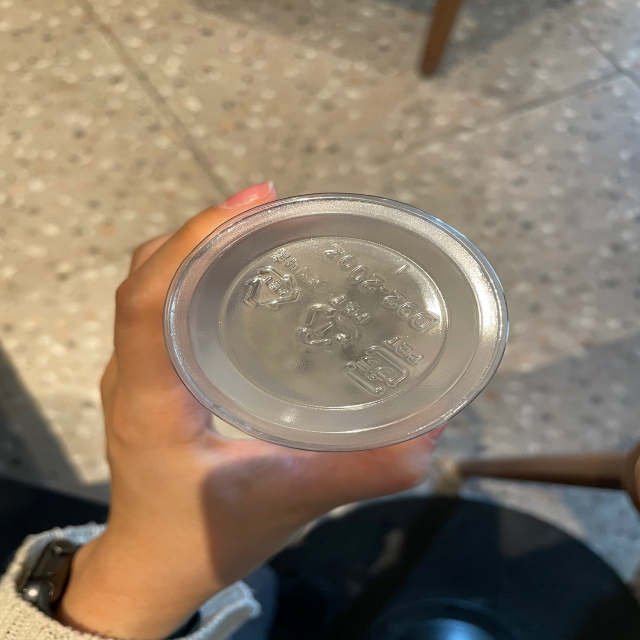pet: (240, 247, 325, 314), (343, 339, 428, 397), (299, 294, 370, 354)
